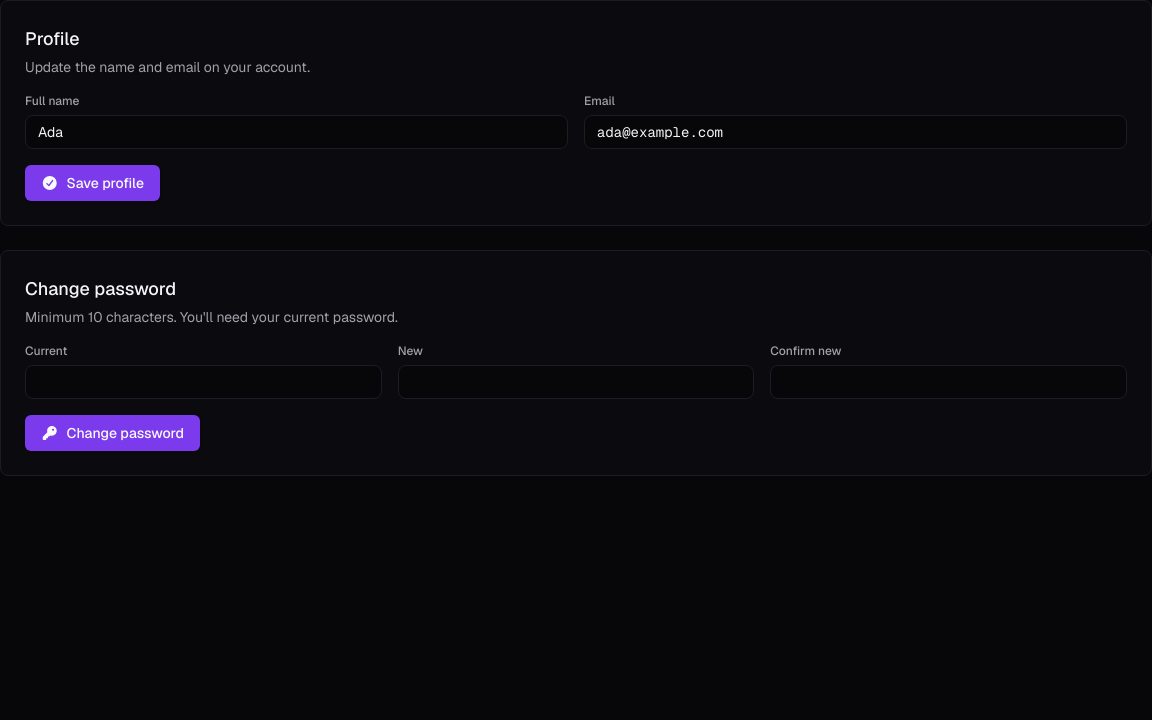
AccountSettingsForm › blocks the password change when confirmation does not match
Type "oldsecret12" into the password field named "Current password" at (203, 382), box [25,365,382,399]
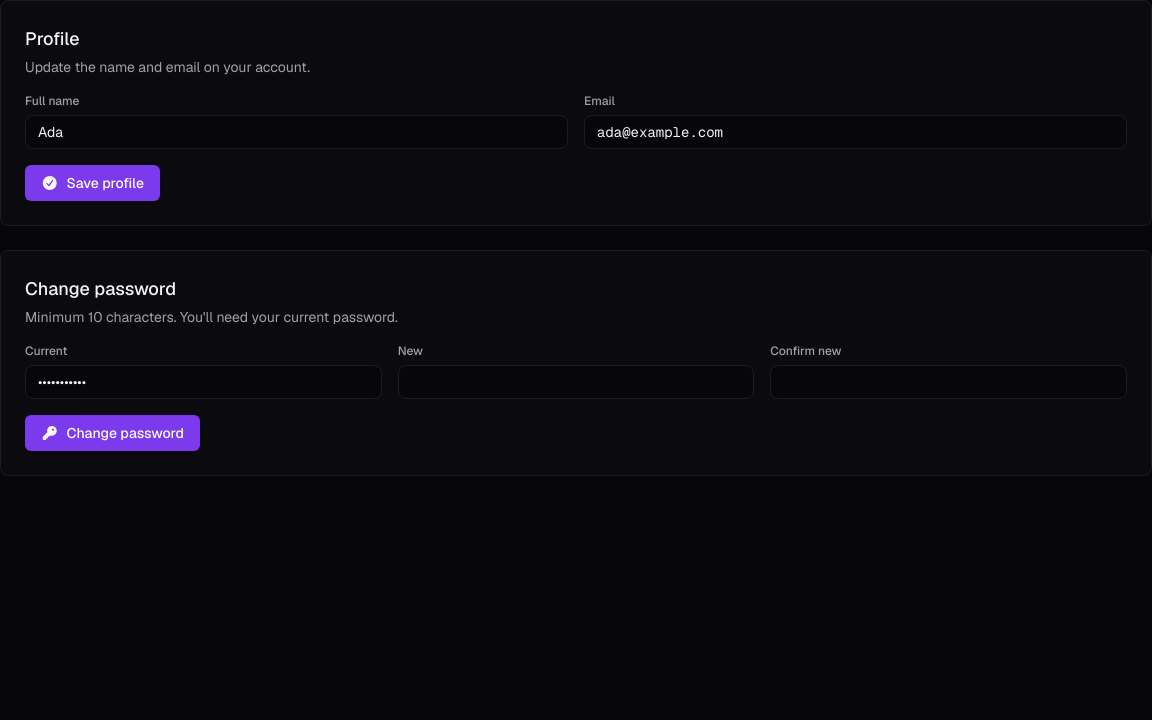
Type "newsecret123" into the password field named "New password" at (576, 382), box [398,365,754,399]
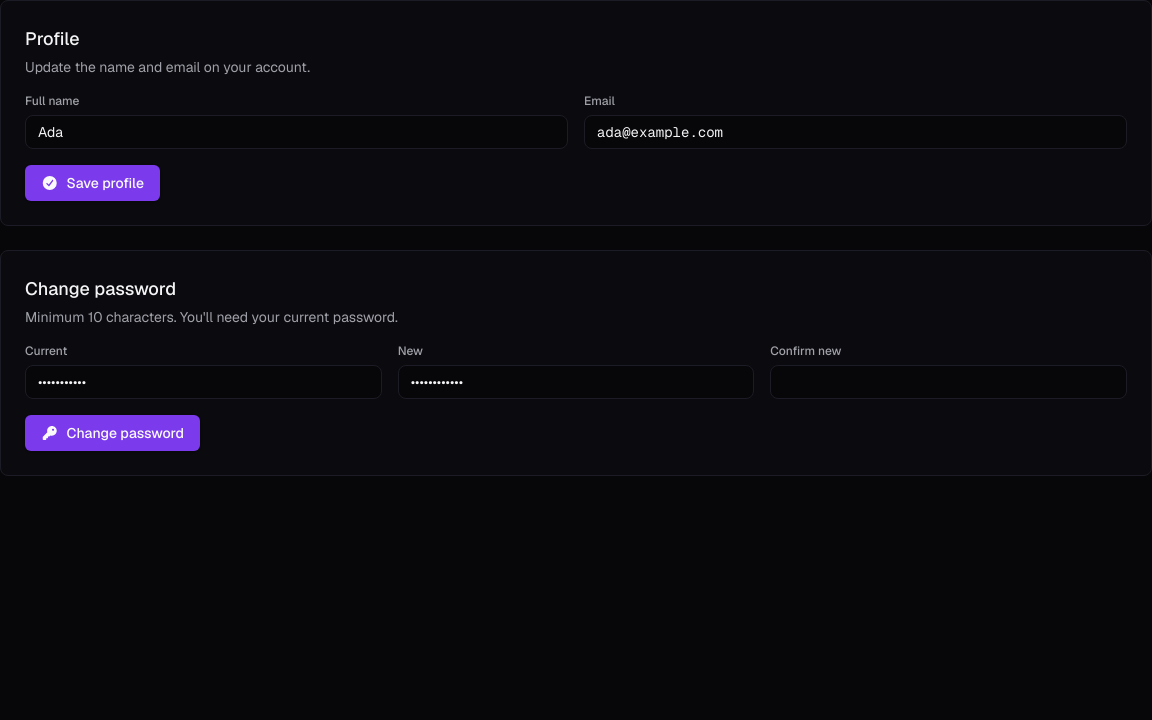
Type "mismatch1234" into the password field named "Confirm new password" at (949, 382), box [770,365,1127,399]
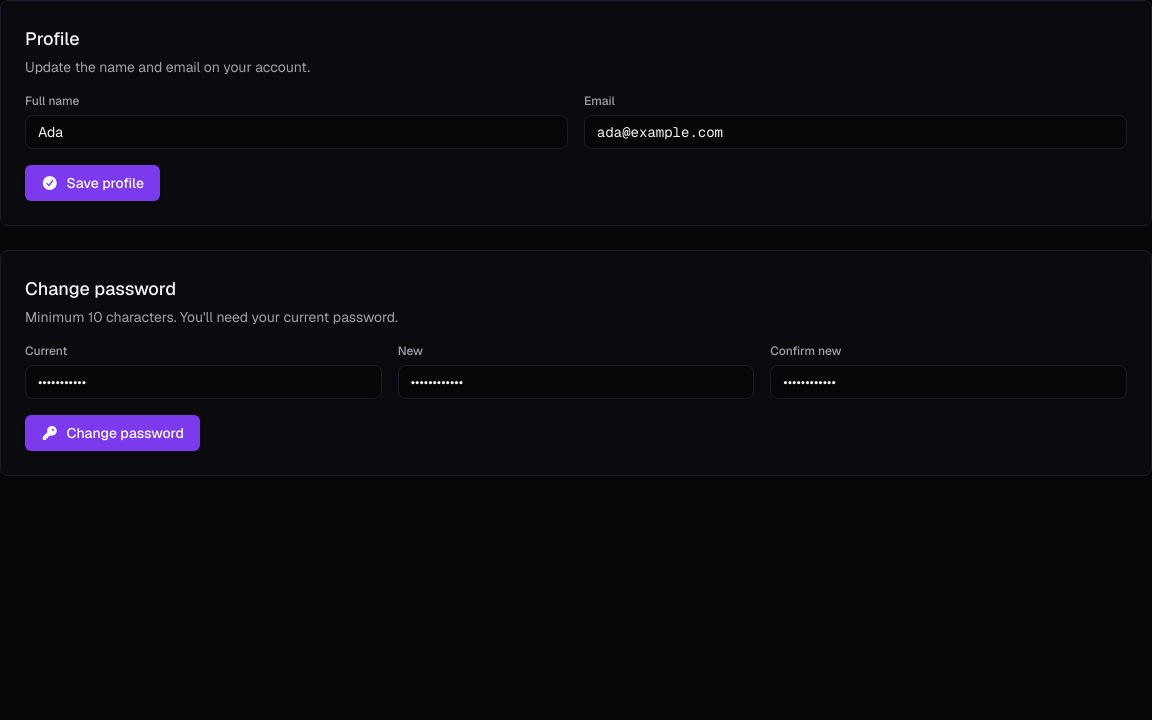
Click the button "Change password" at (112, 433), box [25,415,200,451]
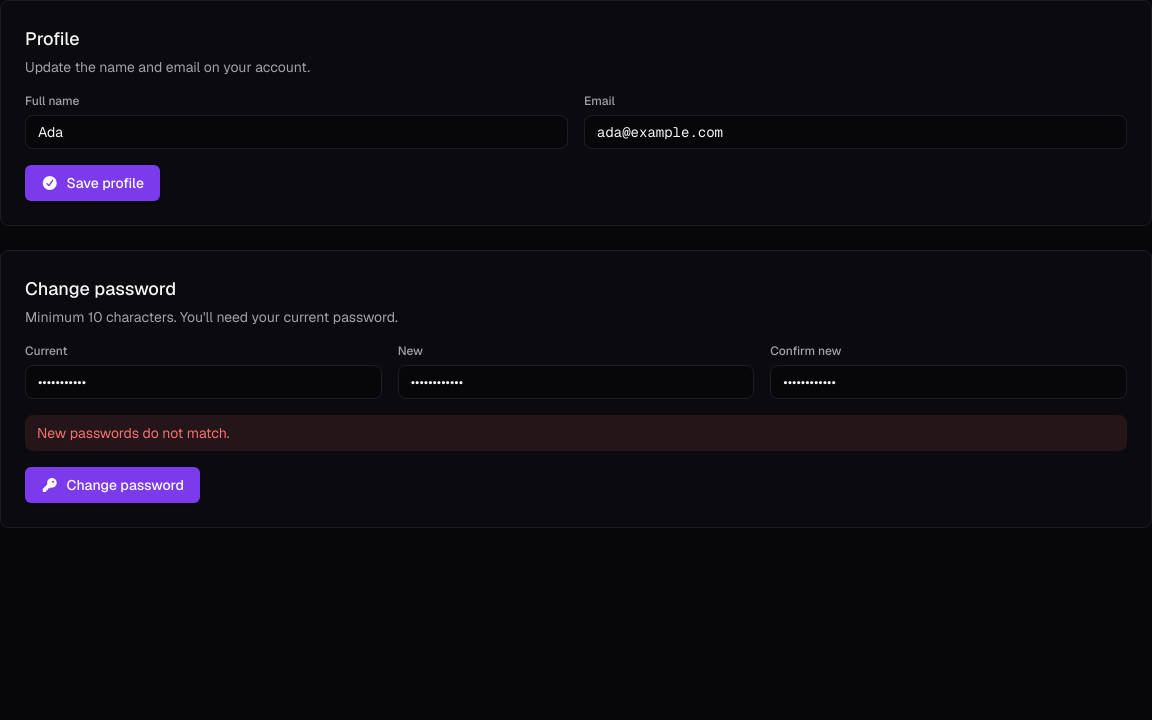
expect the message shows "do not match": met, box [37,424,230,442]
